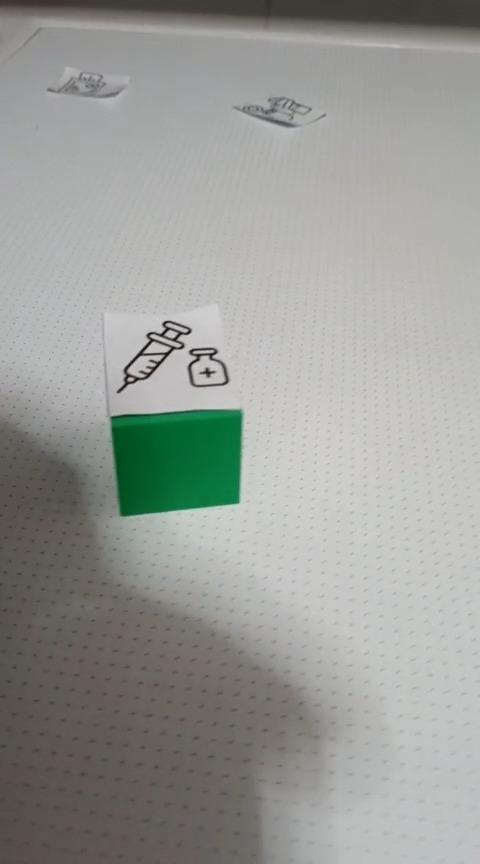antiseptic cream: (100, 302, 244, 517)
